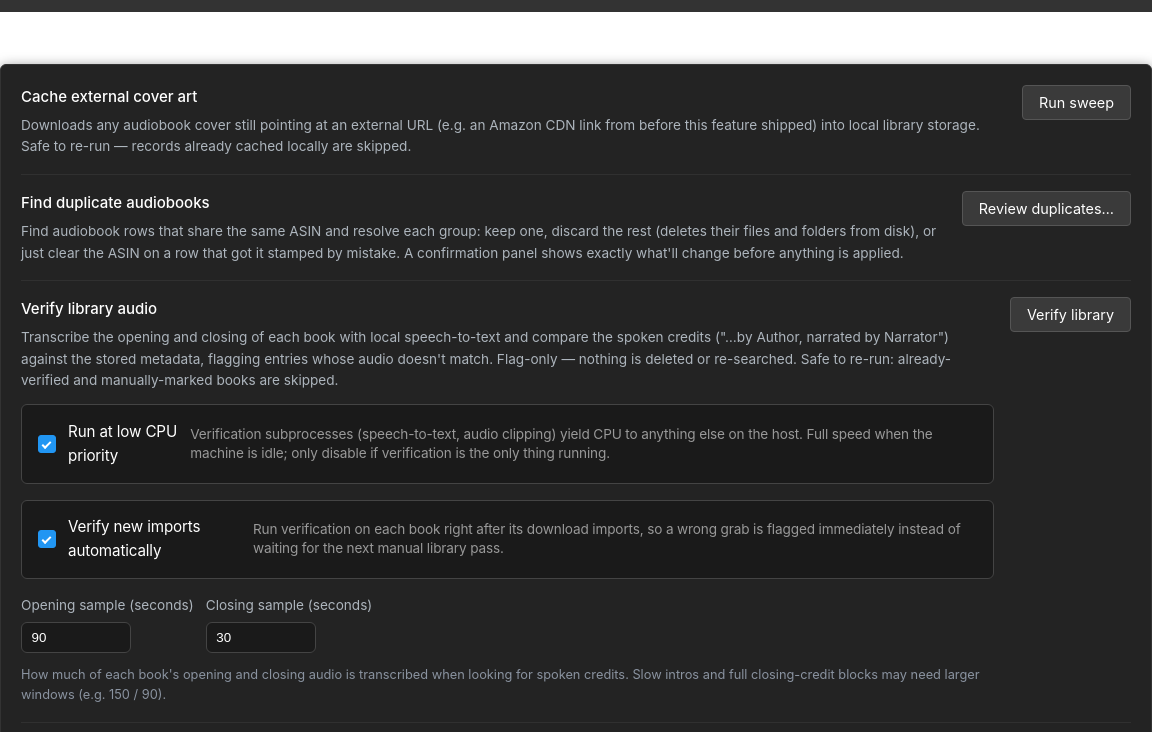
Test: LibraryMaintenanceSection › starts a library verification job and shows running state
expect the element with class "maintenance-row" that starts with "Verify library audio" is shown: met, box [21, 280, 1131, 706]
Click the button "Verify library".
click(1070, 315)  # box [1010, 297, 1131, 332]
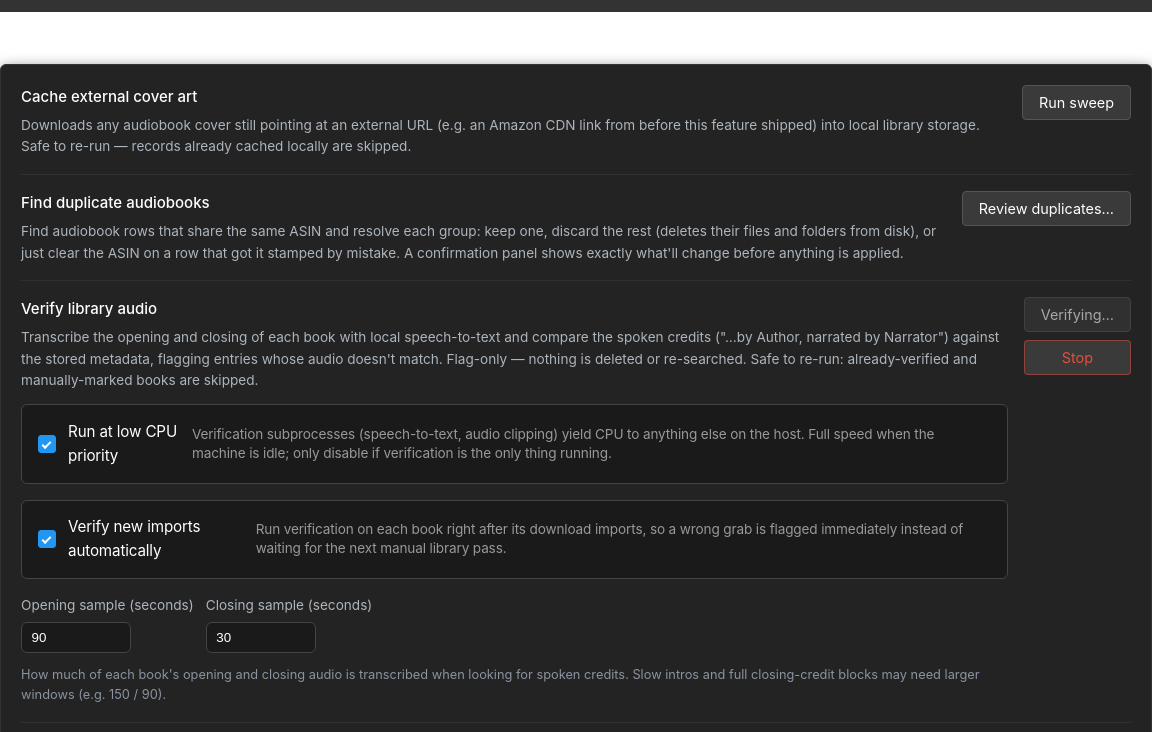
expect the button "Verifying…" is shown: met, box [1024, 297, 1131, 332]
